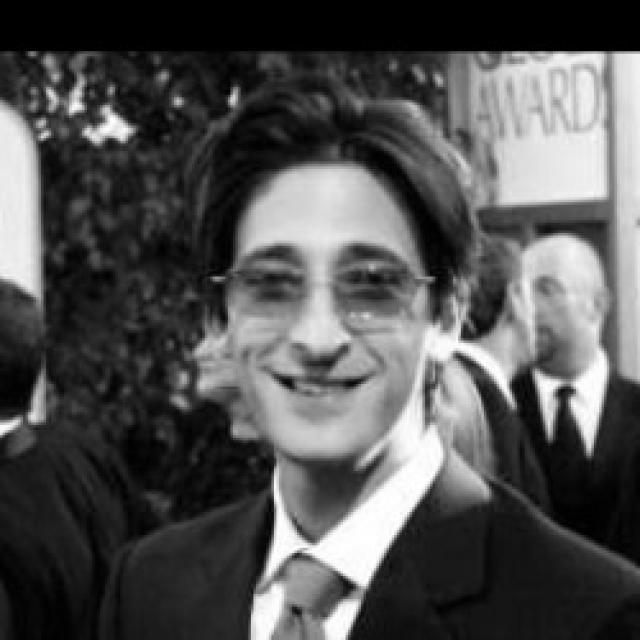fake: (231, 255, 417, 317)
real: (206, 94, 440, 463), (538, 232, 618, 369)
